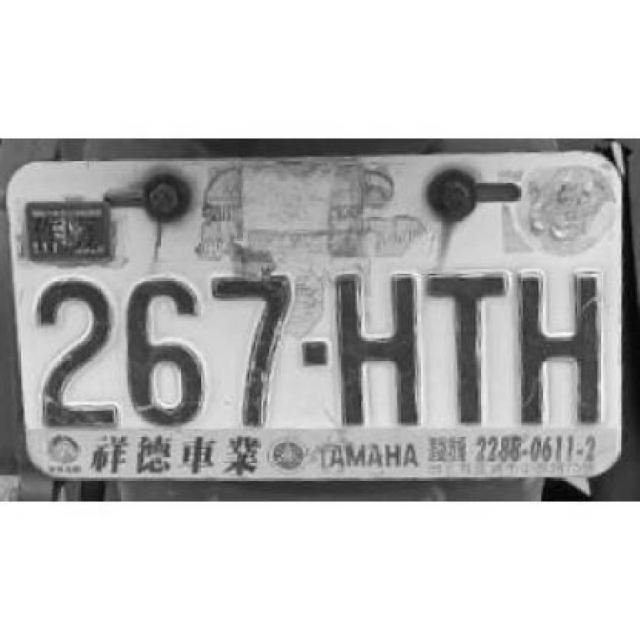-: (300, 339, 331, 366)
2: (32, 277, 120, 428)
6: (120, 274, 206, 423)
7: (212, 276, 294, 426)
H: (331, 270, 422, 432), (517, 270, 605, 428)
T: (428, 270, 509, 428)
